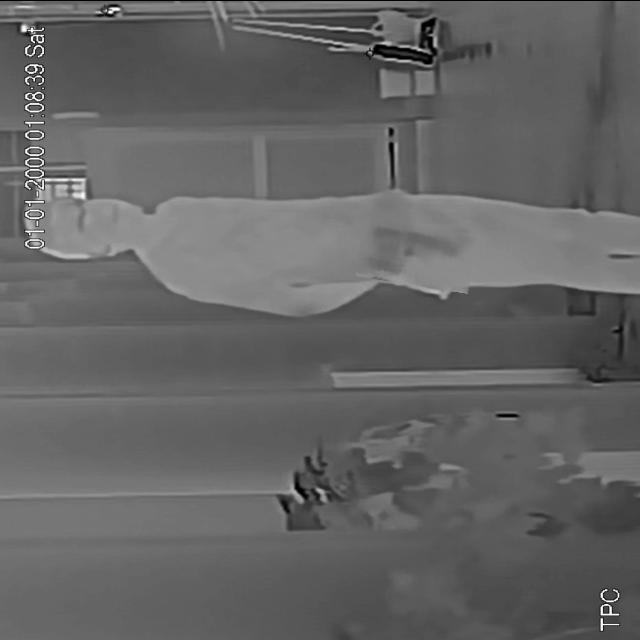Weapon: (358, 220, 476, 288)
